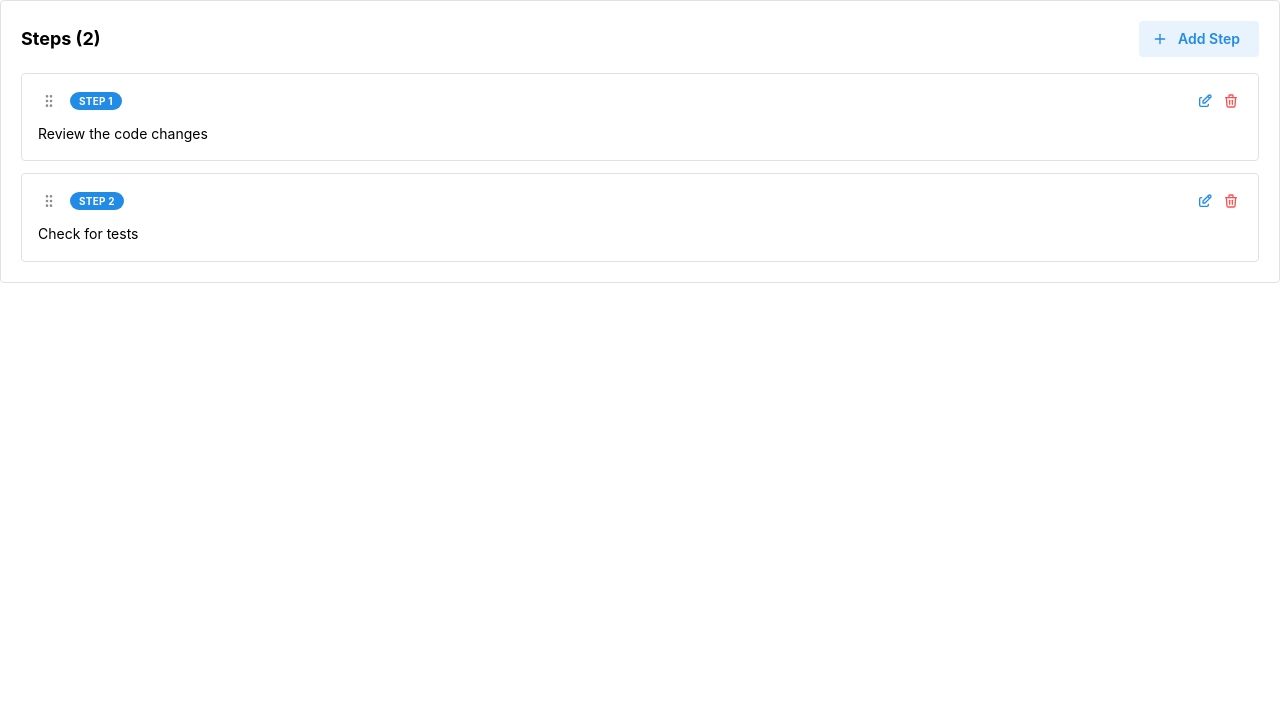
WorkflowStepsManager › should show add form when add button is clicked
The image size is (1280, 720).
Click the button "Add Step". click: (1199, 39)
box: [1139, 21, 1259, 57]
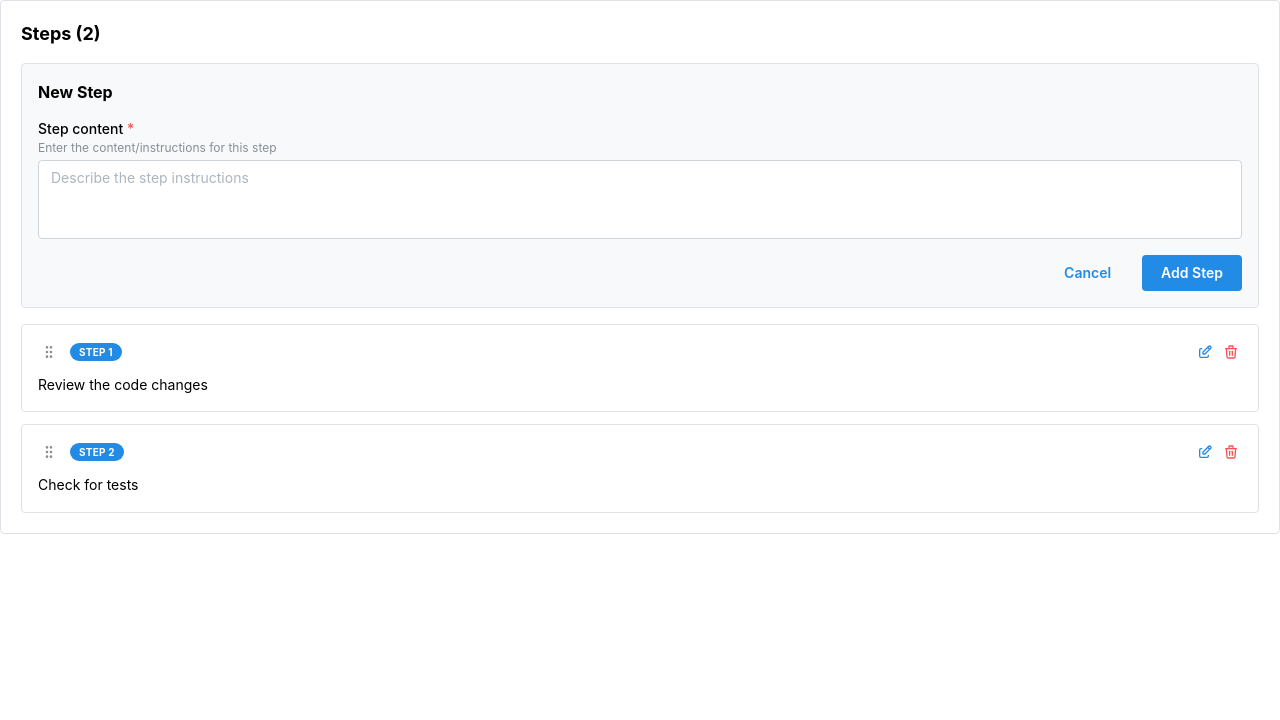
Expected: the heading "New Step" is shown, [38, 82, 113, 102]
Expected: the text box labelled "Step content *" is shown, [38, 160, 1242, 239]
